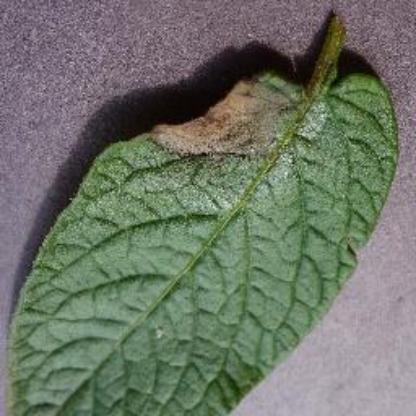Late-Blight: (8, 11, 404, 415)
